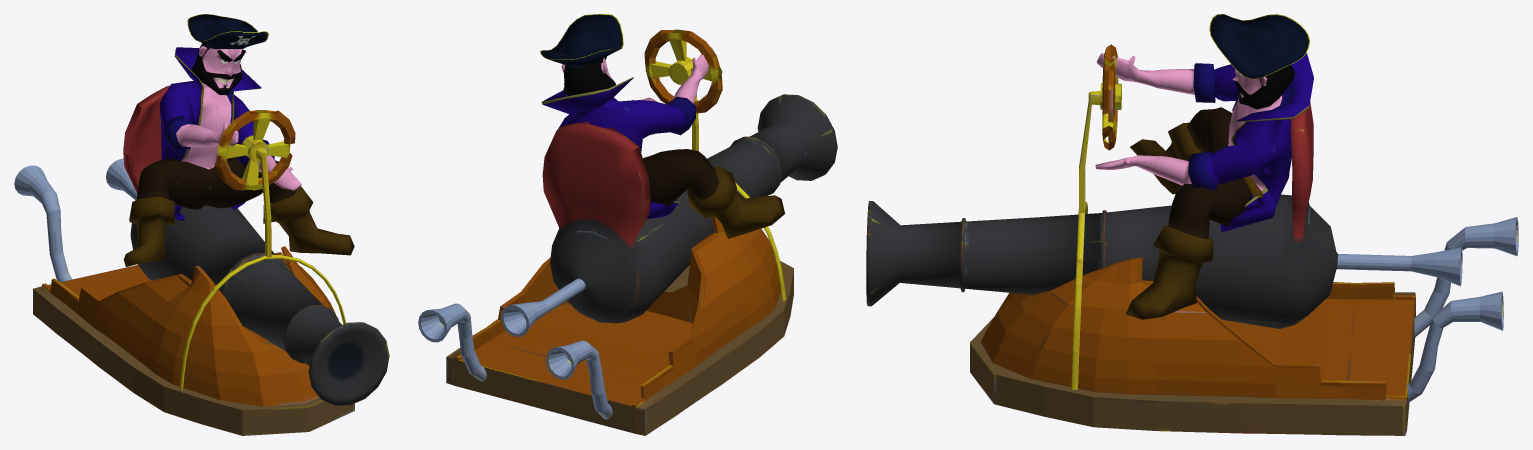
The model's file is pirataGiroDER_000503.obj.
3 renders of one model, left to right at view 1: azimuth 30°, elevation 25°; view 2: azimuth 150°, elevation 25°; view 3: azimuth 270°, elevation 25°, orthographic. The views are drawn at different scales.
Parts seen in each view (by area): view 1: carro_pirata, Pirata_PirataH; view 2: carro_pirata, Pirata_PirataH; view 3: carro_pirata, Pirata_PirataH.
Boxes of the visible parts, bbox=[...] form: carro_pirata: bbox=[14, 85, 389, 435]; Pirata_PirataH: bbox=[123, 14, 354, 266]; carro_pirata: bbox=[418, 29, 837, 435]; Pirata_PirataH: bbox=[540, 14, 784, 238]; carro_pirata: bbox=[866, 44, 1518, 435]; Pirata_PirataH: bbox=[1095, 14, 1313, 319].
Size of the model in its own units: 5.7 by 7.63 by 12.1.
2 materials, 2 textured.
